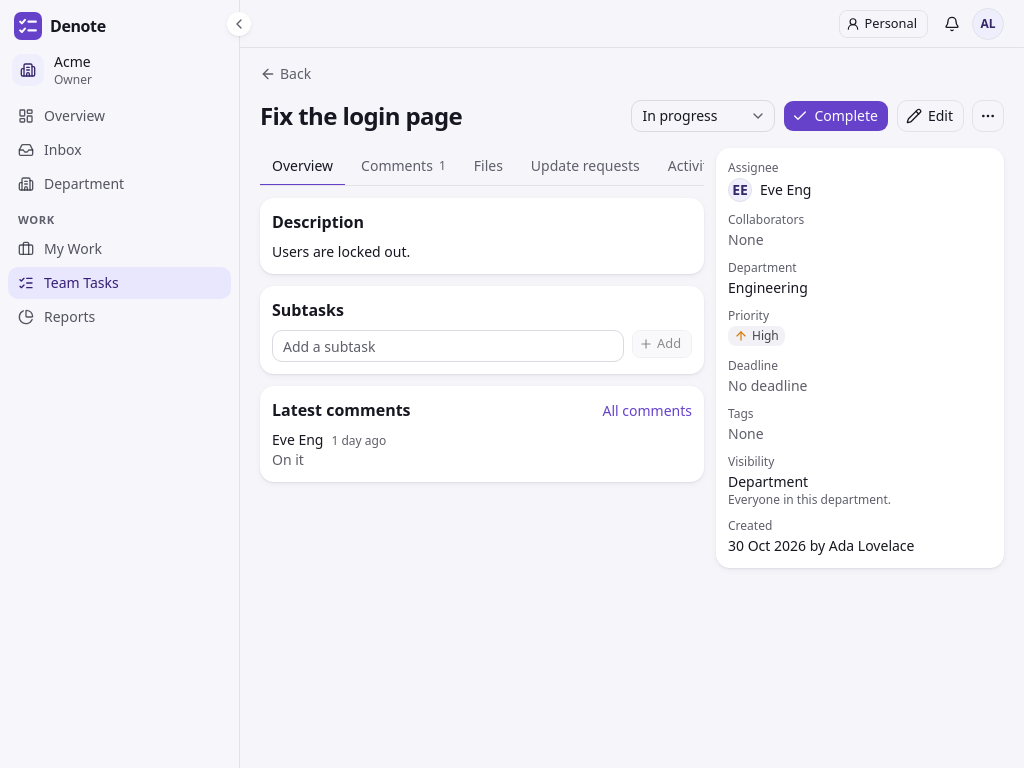
Test: task page › gives each section its own address, with counts
This screenshot has width=1024, height=768.
Click the link with aria-label "Comments, 1": (403, 166) [361,156,446,175]
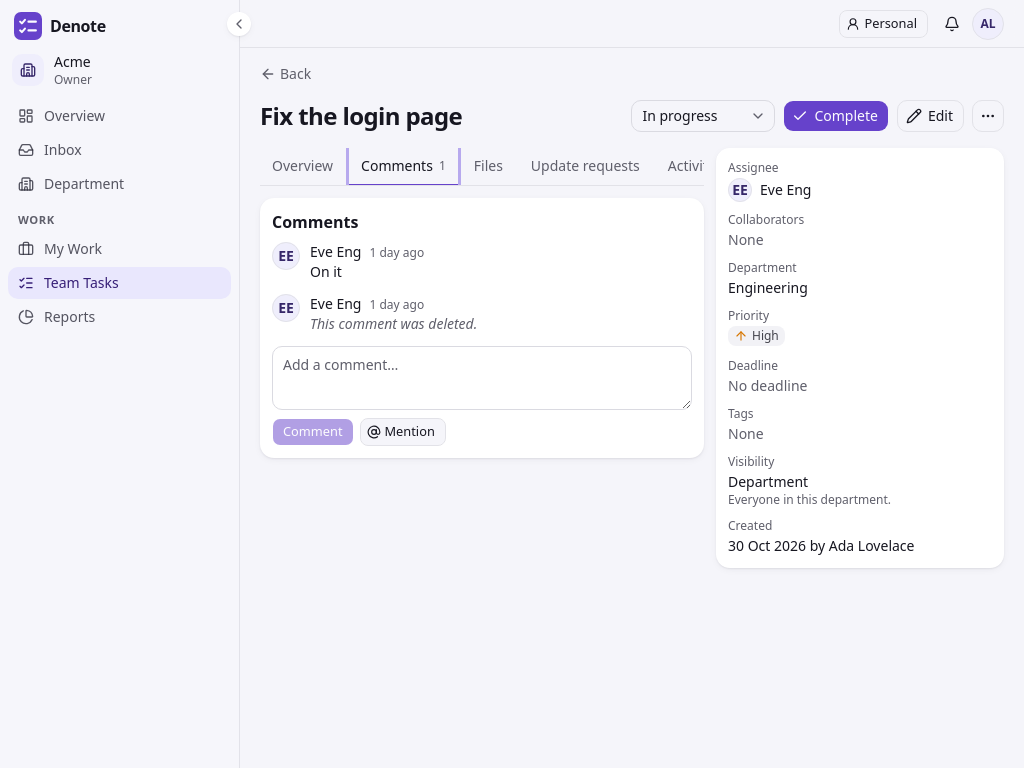
Expected: the text box labelled "Add a comment" is shown, [272,346,692,410]
